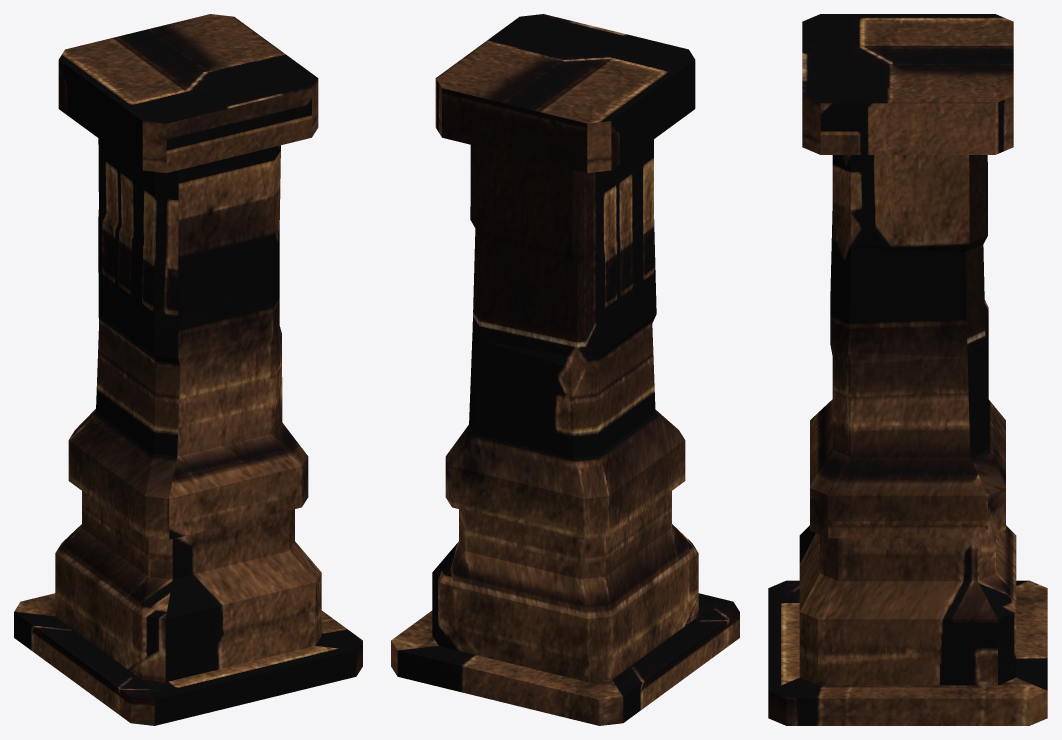
Rendered from Pillar.obj.
The picture shows the model from 3 angles, left to right: view 1: azimuth 30°, elevation 25°; view 2: azimuth 150°, elevation 25°; view 3: azimuth 270°, elevation 25°; orthographic projection. The views are drawn at different scales.
Size of the model in its own units: 60 by 144 by 60.
